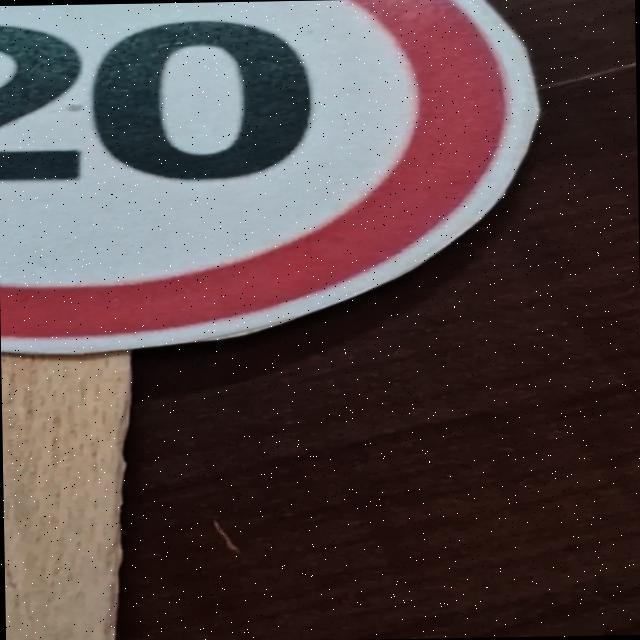Speed20: (0, 0, 568, 358)
